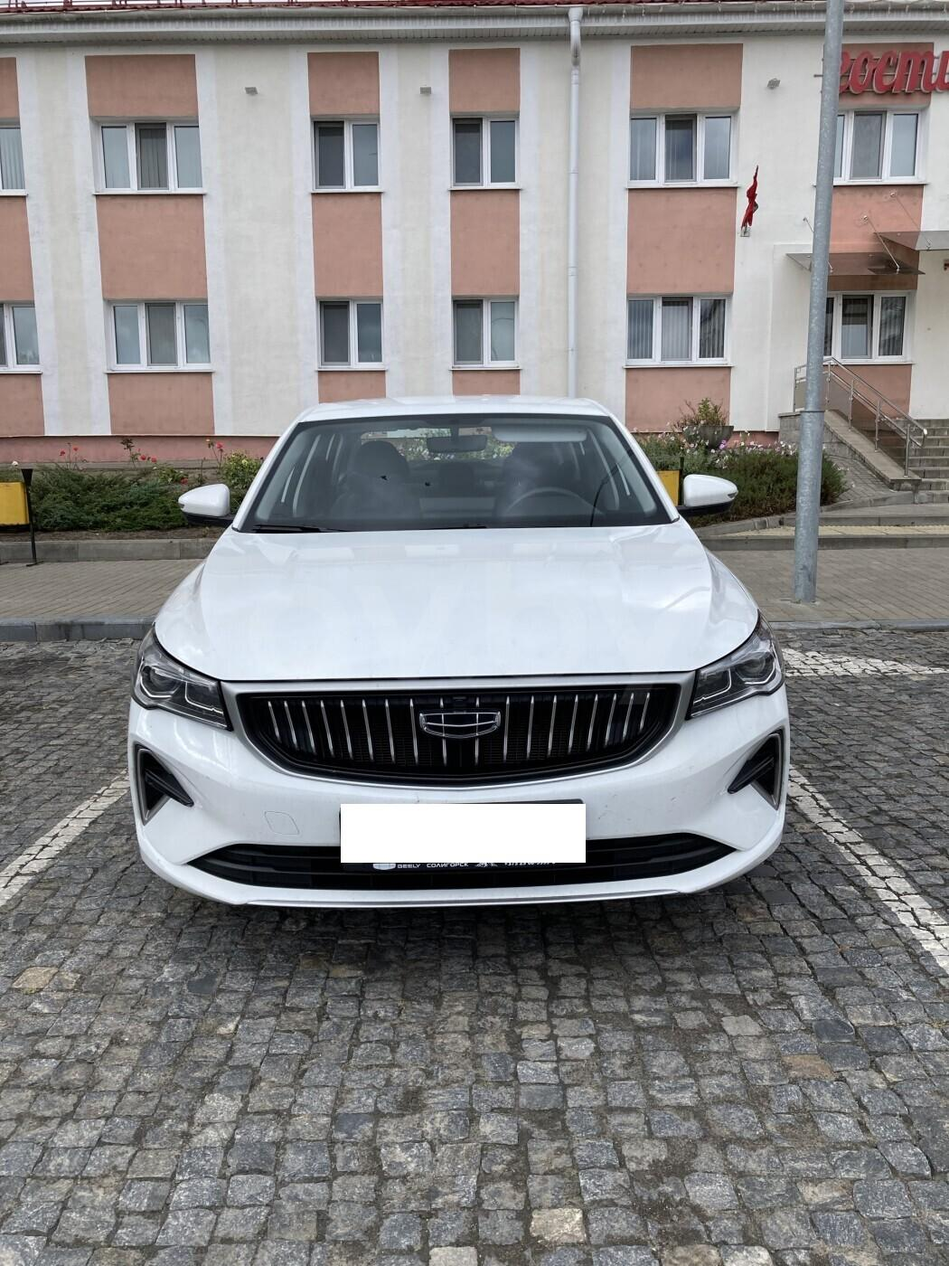Emgrand_2021: (127, 397, 788, 907)
